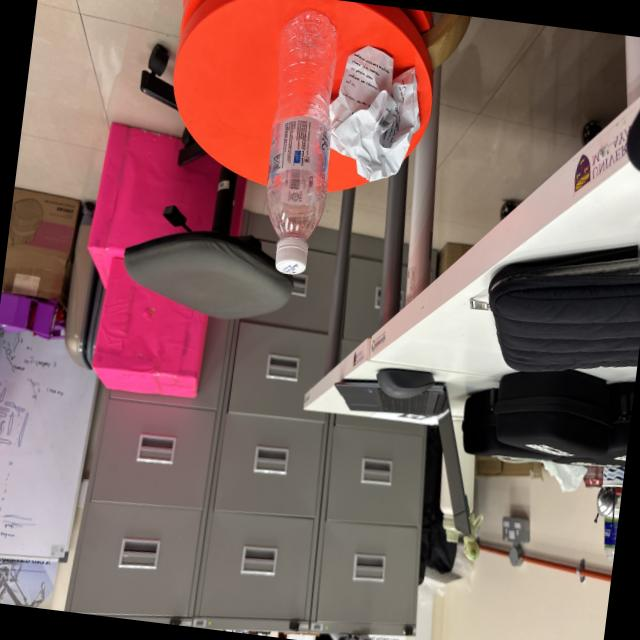crumpled_paper: (317, 30, 435, 199)
plastic_bottle: (246, 0, 354, 286)
